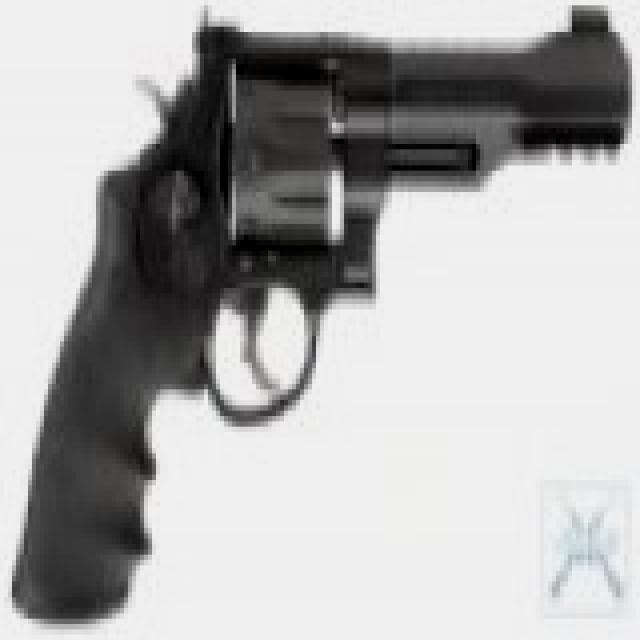pistol: (16, 0, 636, 608)
